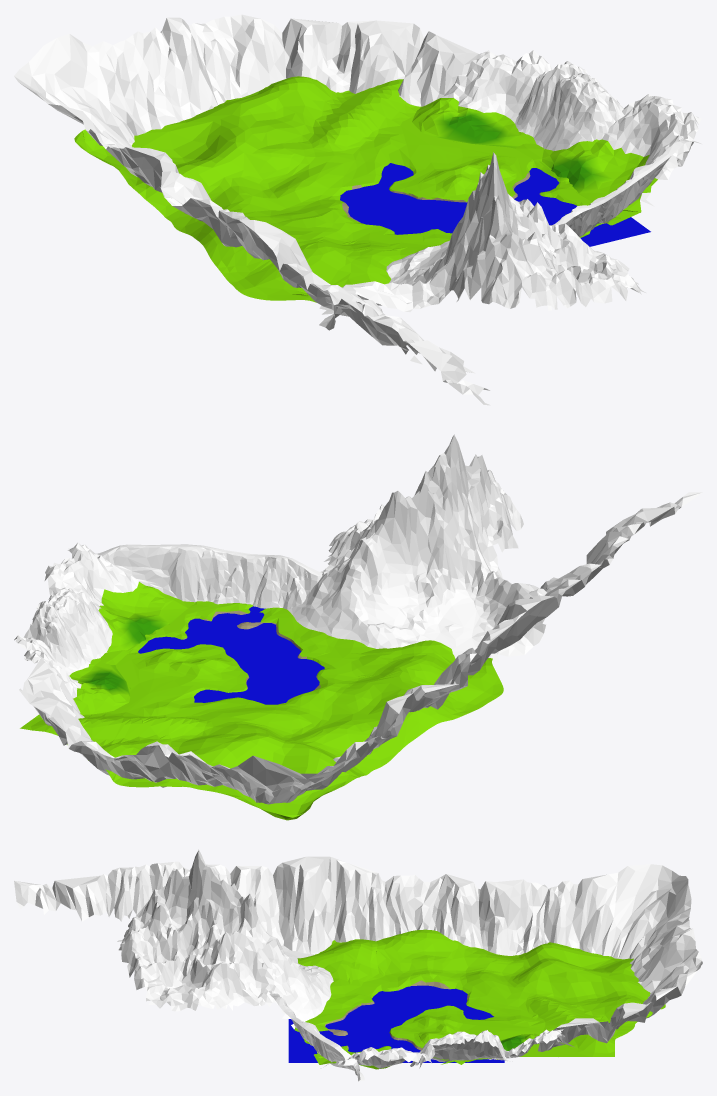
The model's file is landscape.fbx.
The picture shows the model from 3 angles, top to bottom: view 1: azimuth 30°, elevation 25°; view 2: azimuth 150°, elevation 25°; view 3: azimuth 270°, elevation 25°; orthographic projection. The views are drawn at different scales.
Parts seen in each view (by area): view 1: Landscape, Cliff, Mountain.001, Mountain.003, Mountain, water-plane, Mountain.002, Cliff.001; view 2: Landscape, Mountain.001, Cliff, Cliff.001, water-plane, Mountain.003, Mountain.002, Mountain; view 3: Cliff, Landscape, Mountain.001, water-plane, Mountain.002, Cliff.001, Mountain.003, Mountain.
Boxes of the visible parts, x1,y1,x2,y2 form: Landscape: [74, 76, 620, 302]; Cliff: [14, 14, 490, 405]; Mountain.001: [319, 152, 645, 330]; Mountain.003: [515, 94, 701, 225]; Mountain: [412, 50, 552, 148]; water-plane: [340, 163, 650, 246]; Mountain.002: [515, 61, 623, 151]; Cliff.001: [553, 139, 701, 237]; Landscape: [20, 601, 503, 820]; Mountain.001: [288, 434, 546, 662]; Cliff: [19, 492, 702, 804]; Cliff.001: [96, 544, 322, 609]; water-plane: [138, 606, 324, 704]; Mountain.003: [44, 542, 195, 664]; Mountain.002: [23, 588, 112, 670]; Mountain: [14, 635, 130, 714]; Cliff: [14, 856, 702, 1051]; Landscape: [294, 929, 665, 1058]; Mountain.001: [117, 850, 333, 1029]; water-plane: [288, 985, 504, 1062]; Mountain.002: [410, 1030, 512, 1068]; Cliff.001: [269, 993, 364, 1081]; Mountain.003: [314, 1047, 465, 1069]; Mountain: [441, 1029, 574, 1064].
Bounding box in the file's own units: 483 × 211 × 771.
